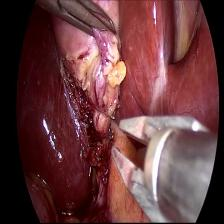Clipper: (108, 111, 217, 224)
Grasper: (34, 0, 117, 48)
